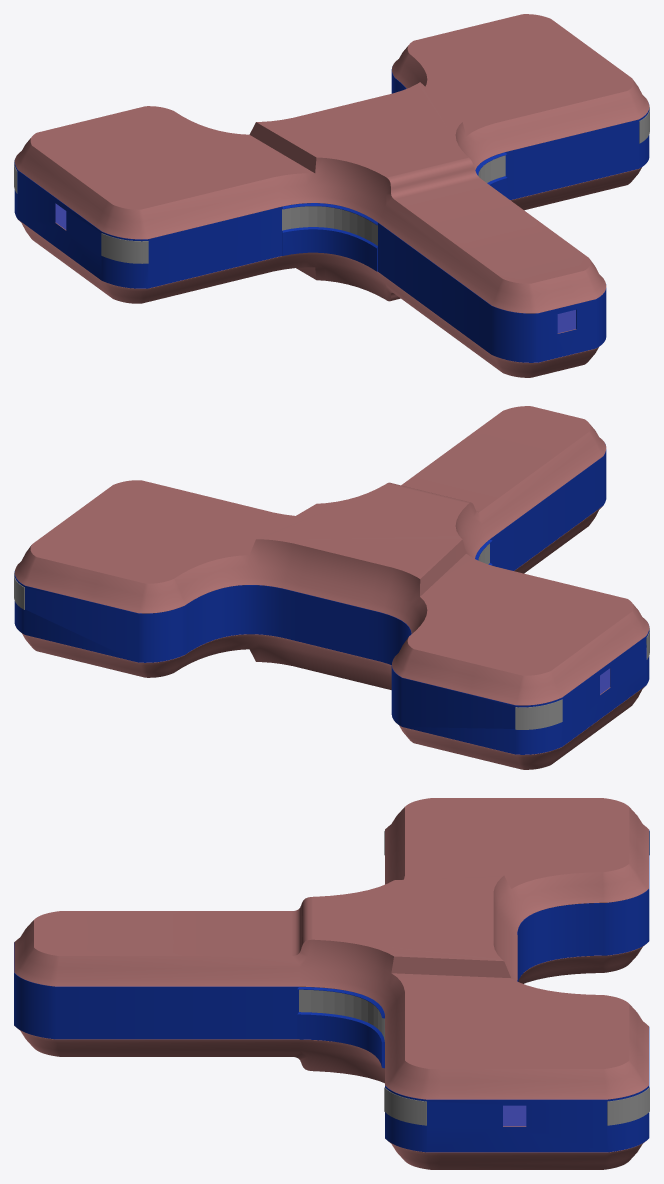
File: SS Module 15.FBX
The picture shows the model from 3 angles, top to bottom: view 1: azimuth 30°, elevation 25°; view 2: azimuth 150°, elevation 25°; view 3: azimuth 270°, elevation 25°; orthographic projection. The views are drawn at different scales.
Visible parts, largest first — view 1: Plane090, floor007; view 2: Plane090; view 3: Plane090.
Boxes of the visible parts, x1,y1,x2,y2 form: Plane090: (14,14,649,377); floor007: (56,204,575,333); Plane090: (14,406,649,769); Plane090: (14,798,649,1169).
Bounding box in the file's own units: 115 × 24.8 × 109.
